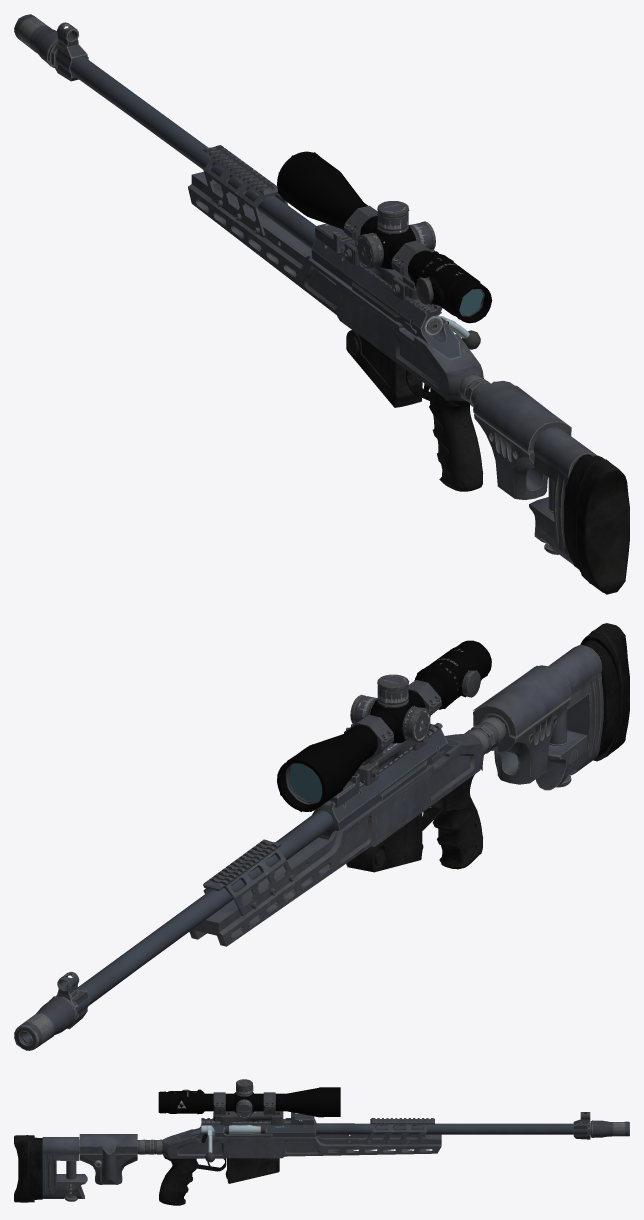
The model's file is sniper.glb.
The picture shows the model from 3 angles, top to bottom: view 1: azimuth 30°, elevation 25°; view 2: azimuth 150°, elevation 25°; view 3: azimuth 270°, elevation 25°; orthographic projection. The views are drawn at different scales.
Parts seen in each view (by area): view 1: sniper_Gun, sniper_GunFull; view 2: sniper_Gun, sniper_GunFull; view 3: sniper_Gun, sniper_GunFull.
Part boxes in pixels (x1,y1,x2,y2): sniper_Gun: (14, 14, 629, 593); sniper_GunFull: (14, 14, 629, 594); sniper_Gun: (14, 623, 629, 1050); sniper_GunFull: (14, 623, 629, 1050); sniper_Gun: (14, 1079, 629, 1205); sniper_GunFull: (14, 1082, 629, 1204).
Size of the model in its own units: 0.0979 by 0.2617 by 1.2.
Materials: 3 (3 with a texture image).
